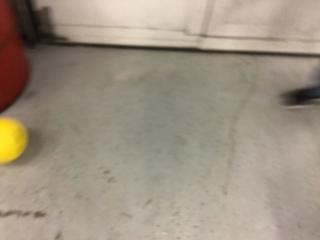power_cell: (1, 112, 35, 164)
